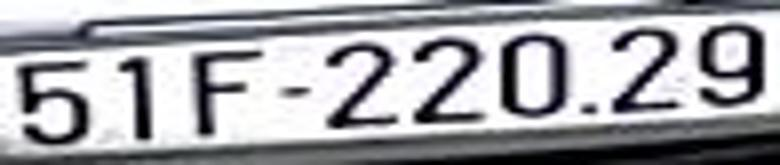-: (281, 81, 316, 105)
.: (578, 97, 600, 119)
0: (499, 29, 568, 121)
1: (119, 47, 158, 144)
2: (406, 32, 489, 125), (318, 39, 401, 130), (611, 23, 683, 113)
5: (14, 56, 93, 150)
9: (698, 21, 766, 106)
F: (184, 43, 267, 143)
